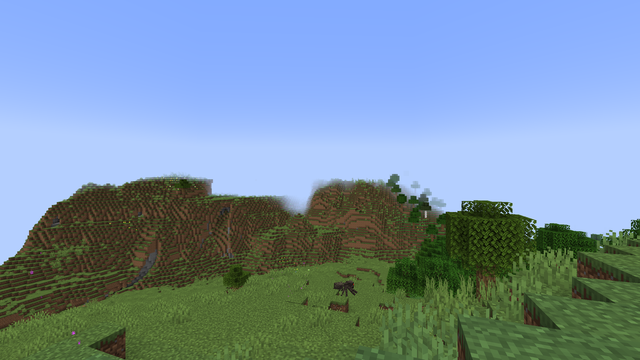araignees: (335, 277, 354, 296)
